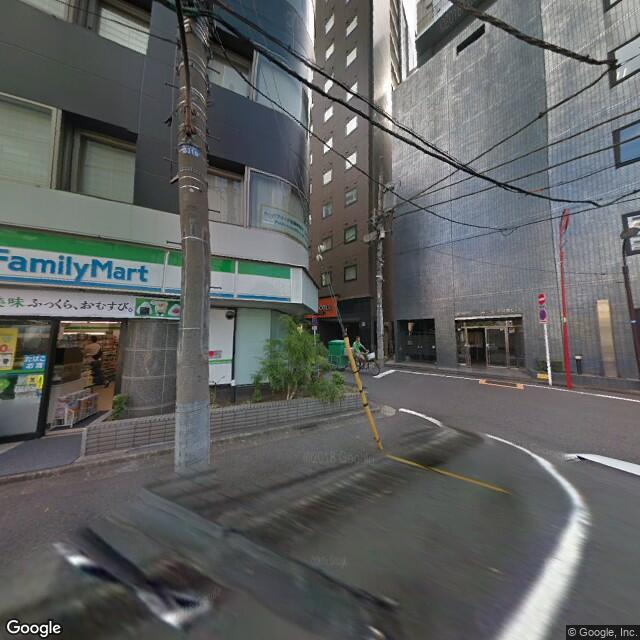family_mart: (1, 222, 291, 312), (1, 245, 152, 288)
